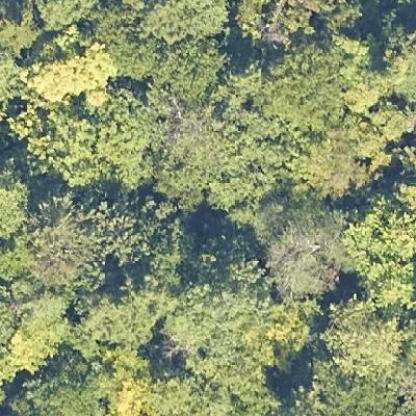tree-top: (166, 276, 320, 382), (27, 83, 160, 192), (250, 188, 348, 301), (344, 182, 415, 305), (13, 34, 122, 112), (13, 195, 105, 287), (261, 44, 360, 128), (0, 290, 82, 376), (323, 300, 415, 374), (153, 35, 232, 102), (137, 0, 234, 40), (0, 164, 36, 239), (366, 94, 415, 140)
